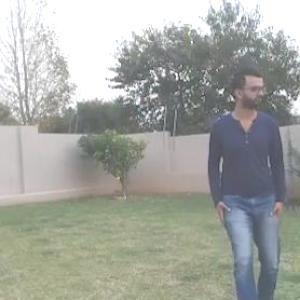follow: (206, 61, 290, 299)
